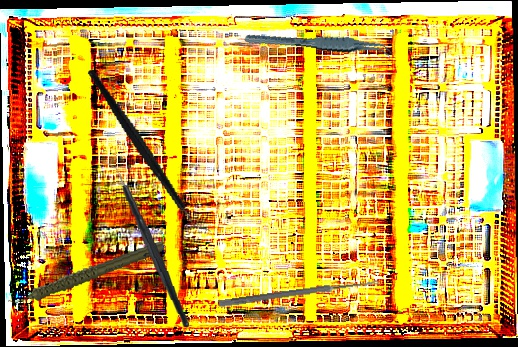Chopper: (86, 50, 213, 253), (102, 155, 190, 332)
Handpiece: (2, 239, 169, 306)
Surgical Spoon: (218, 277, 381, 309)
Tissue Forceps: (243, 17, 396, 71)
